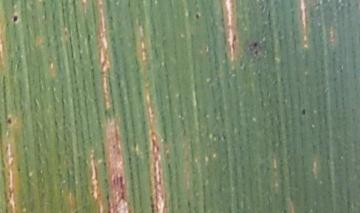tarspot: (266, 9, 274, 32), (230, 34, 237, 52), (12, 14, 19, 24), (116, 78, 122, 89), (194, 13, 200, 21), (7, 117, 13, 125), (108, 14, 114, 22), (111, 143, 117, 150), (15, 166, 21, 173), (253, 48, 258, 56), (126, 1, 131, 9), (300, 107, 306, 113), (252, 41, 258, 47), (219, 16, 225, 22)
